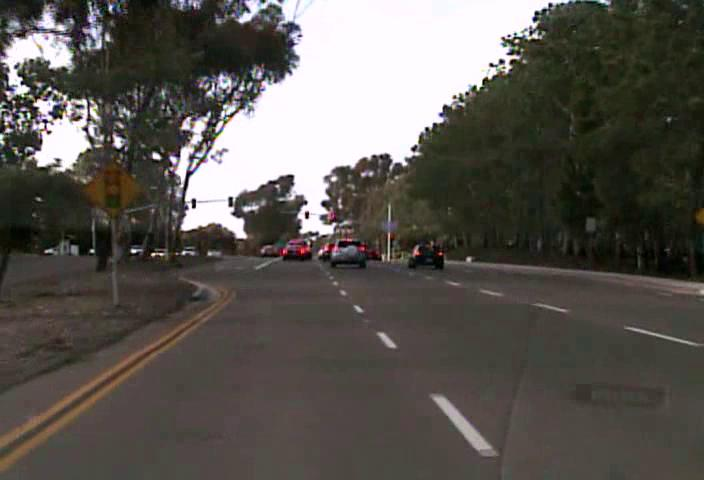signalAhead: (79, 157, 145, 218)
